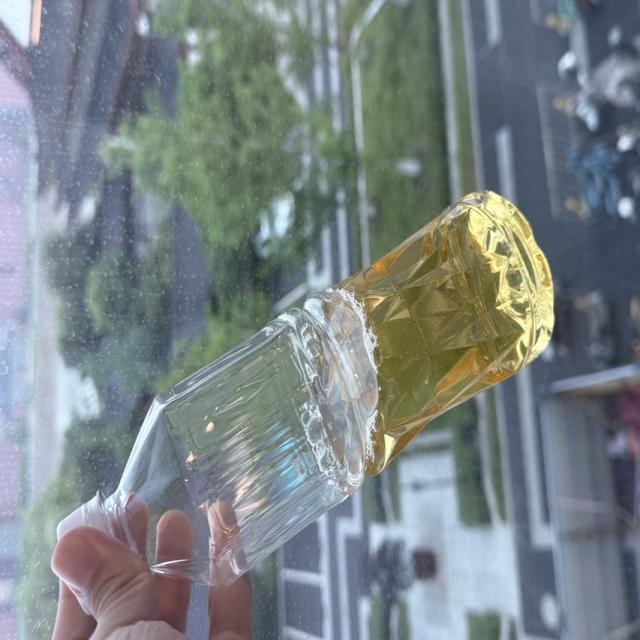medium: (58, 191, 553, 585)
